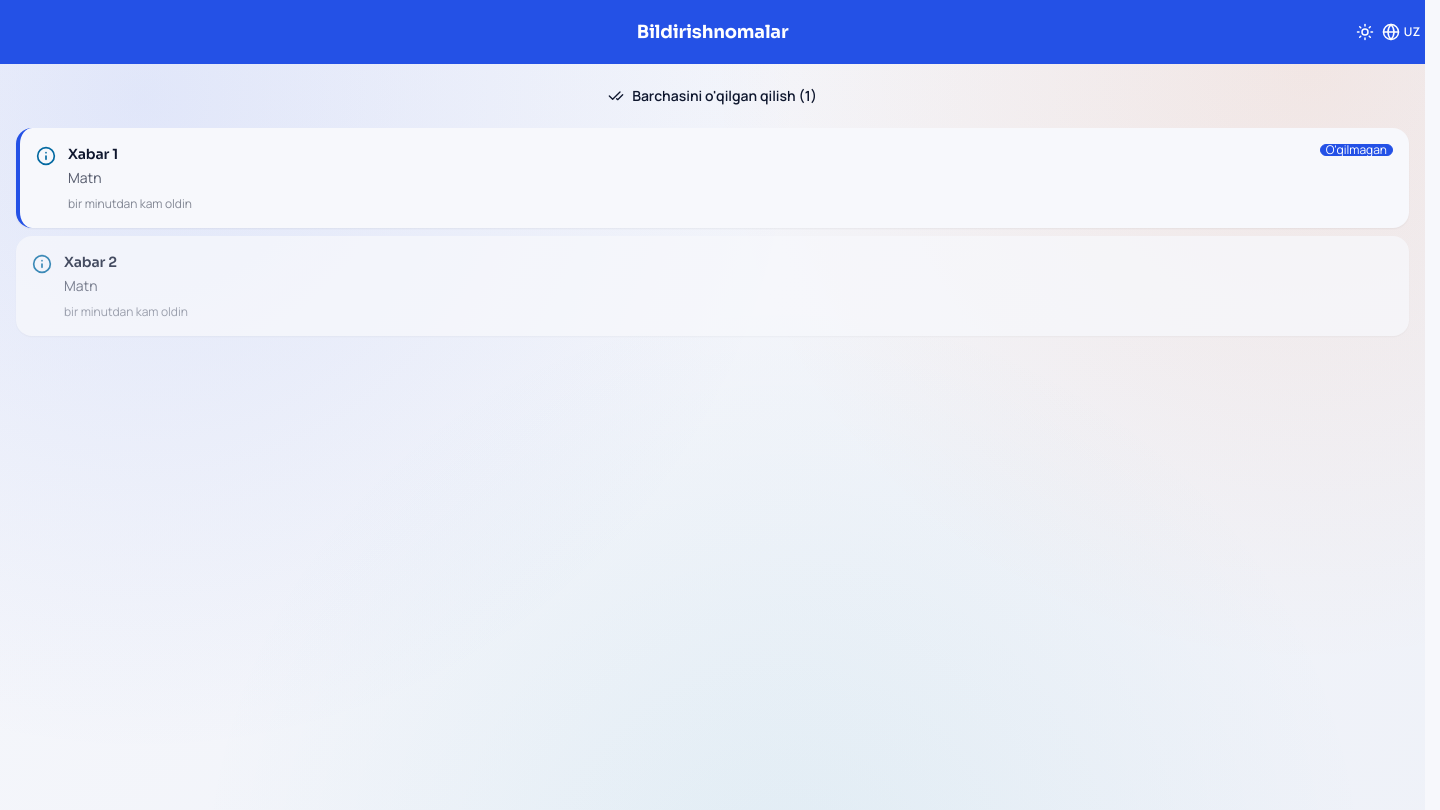
Test case: PortalNotificationsPage › o'qilmaganlar bo'lsa 'hammasini o'qilgan' tugmasi chiqadi va API chaqiriladi
Expected: the heading "Xabar 1" is shown, [68,144,118,164]
Click the button "Barchasini o'qilgan qilish (1)" at [712, 96], box [16,80,1409,112]
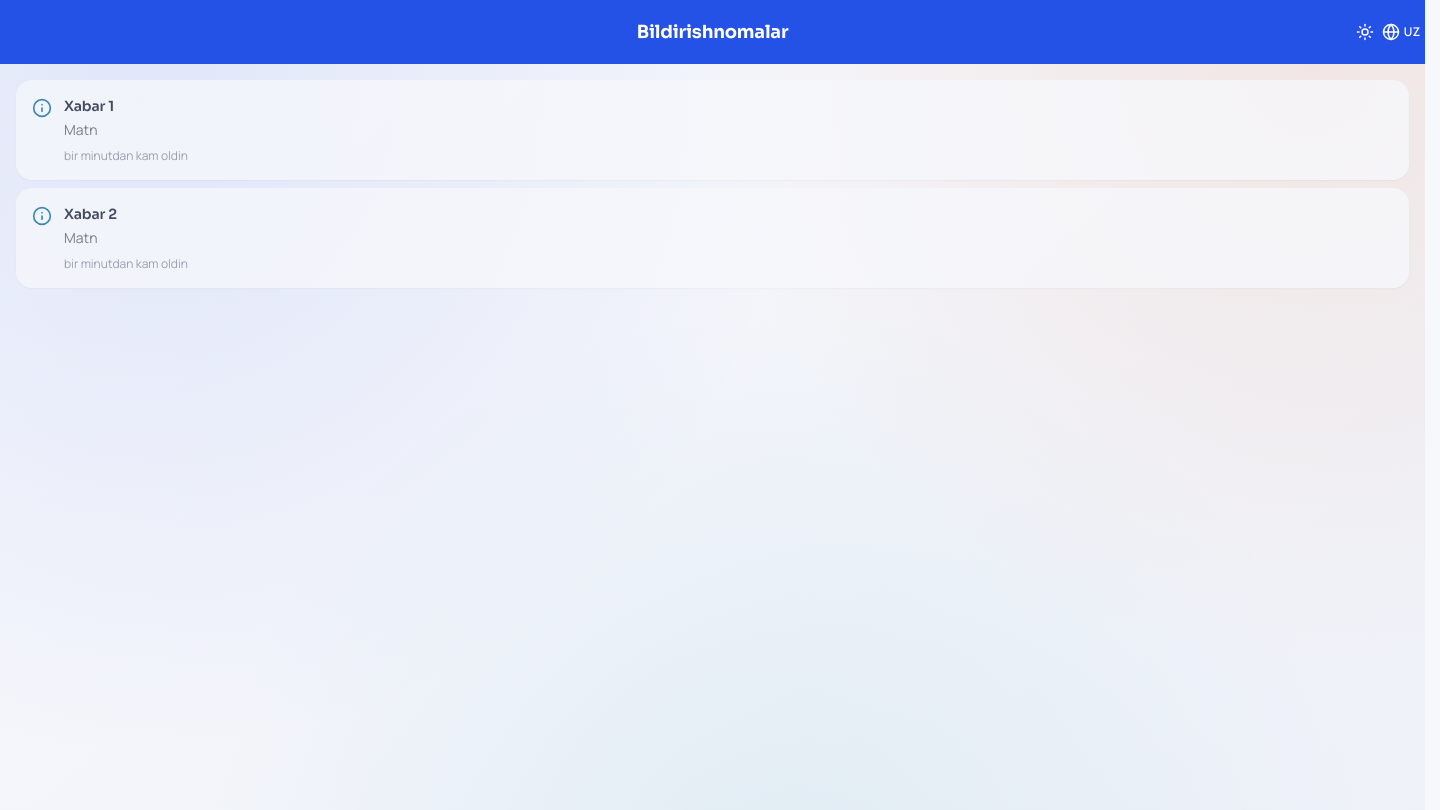
Expected: the button "(1)" is gone
